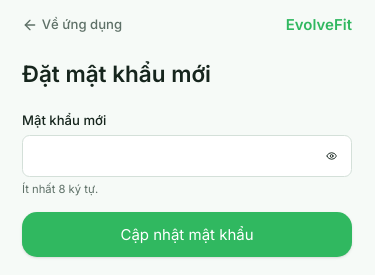
Scenario: Account namespaces and two-way sync (P2) › reads the recovery token from the reset link and clears it from the address bar
The width and height of the screenshot is (375, 275).
Type "new-secret-1" into the password field labelled "Mật khẩu mới" at (187, 156), box [22,135,352,177]
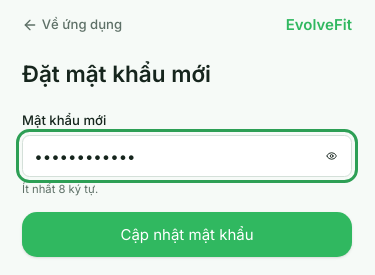
Click the button "Cập nhật mật khẩu" at (187, 235), box [22,212,352,257]
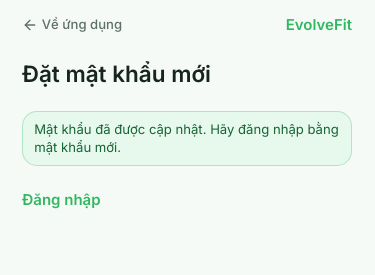
Check: the text "Mật khẩu đã được cập nhật. Hãy đăng nhập bằng mật khẩu mới." is shown, box [22,111,352,166]
